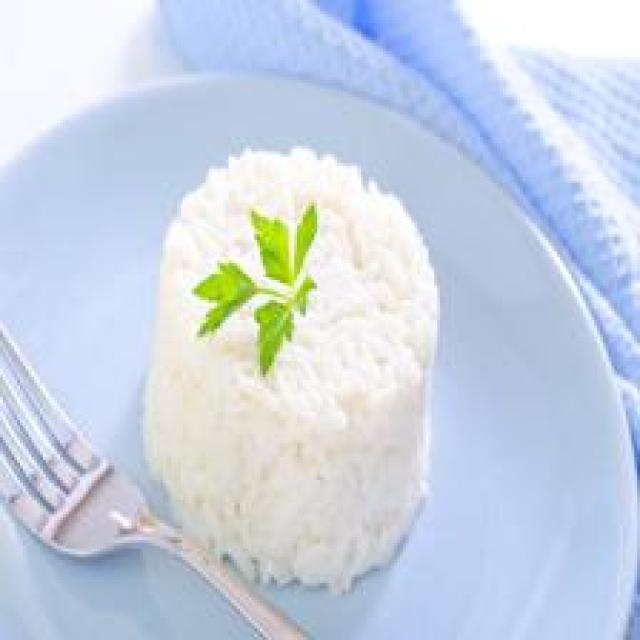Wet Waste: (140, 123, 441, 596)
